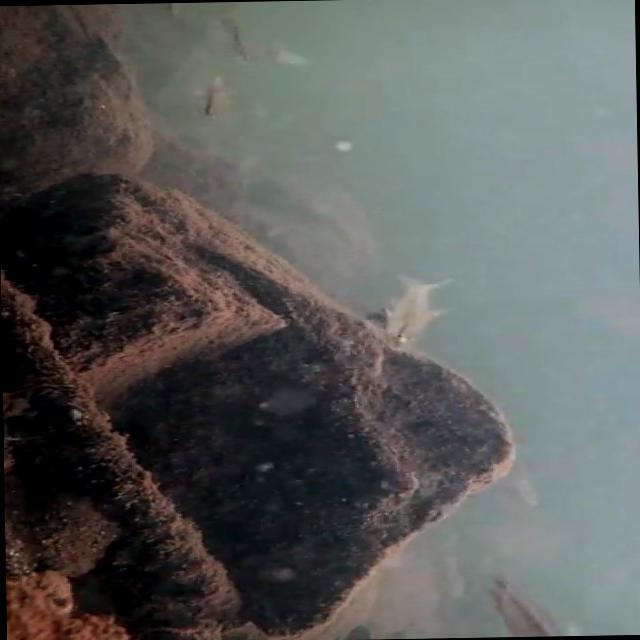Cakil Baligi: (372, 267, 462, 351), (186, 70, 229, 127)
